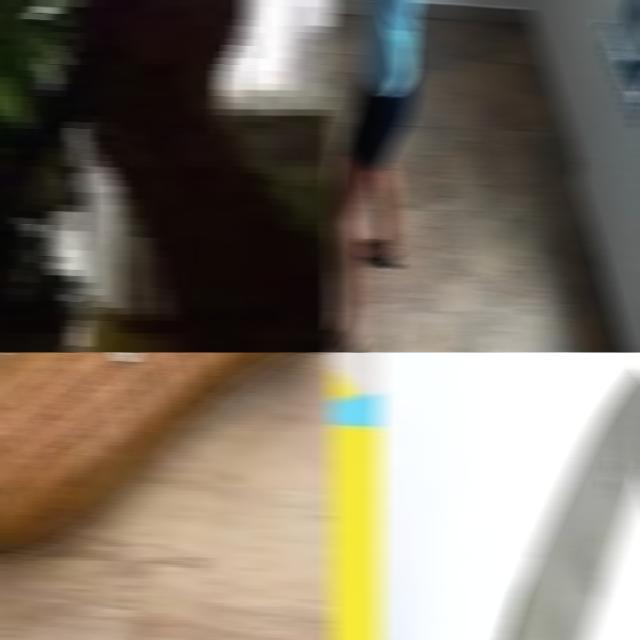Knife: (500, 371, 640, 640)
Knife_Handle: (0, 0, 249, 301)
